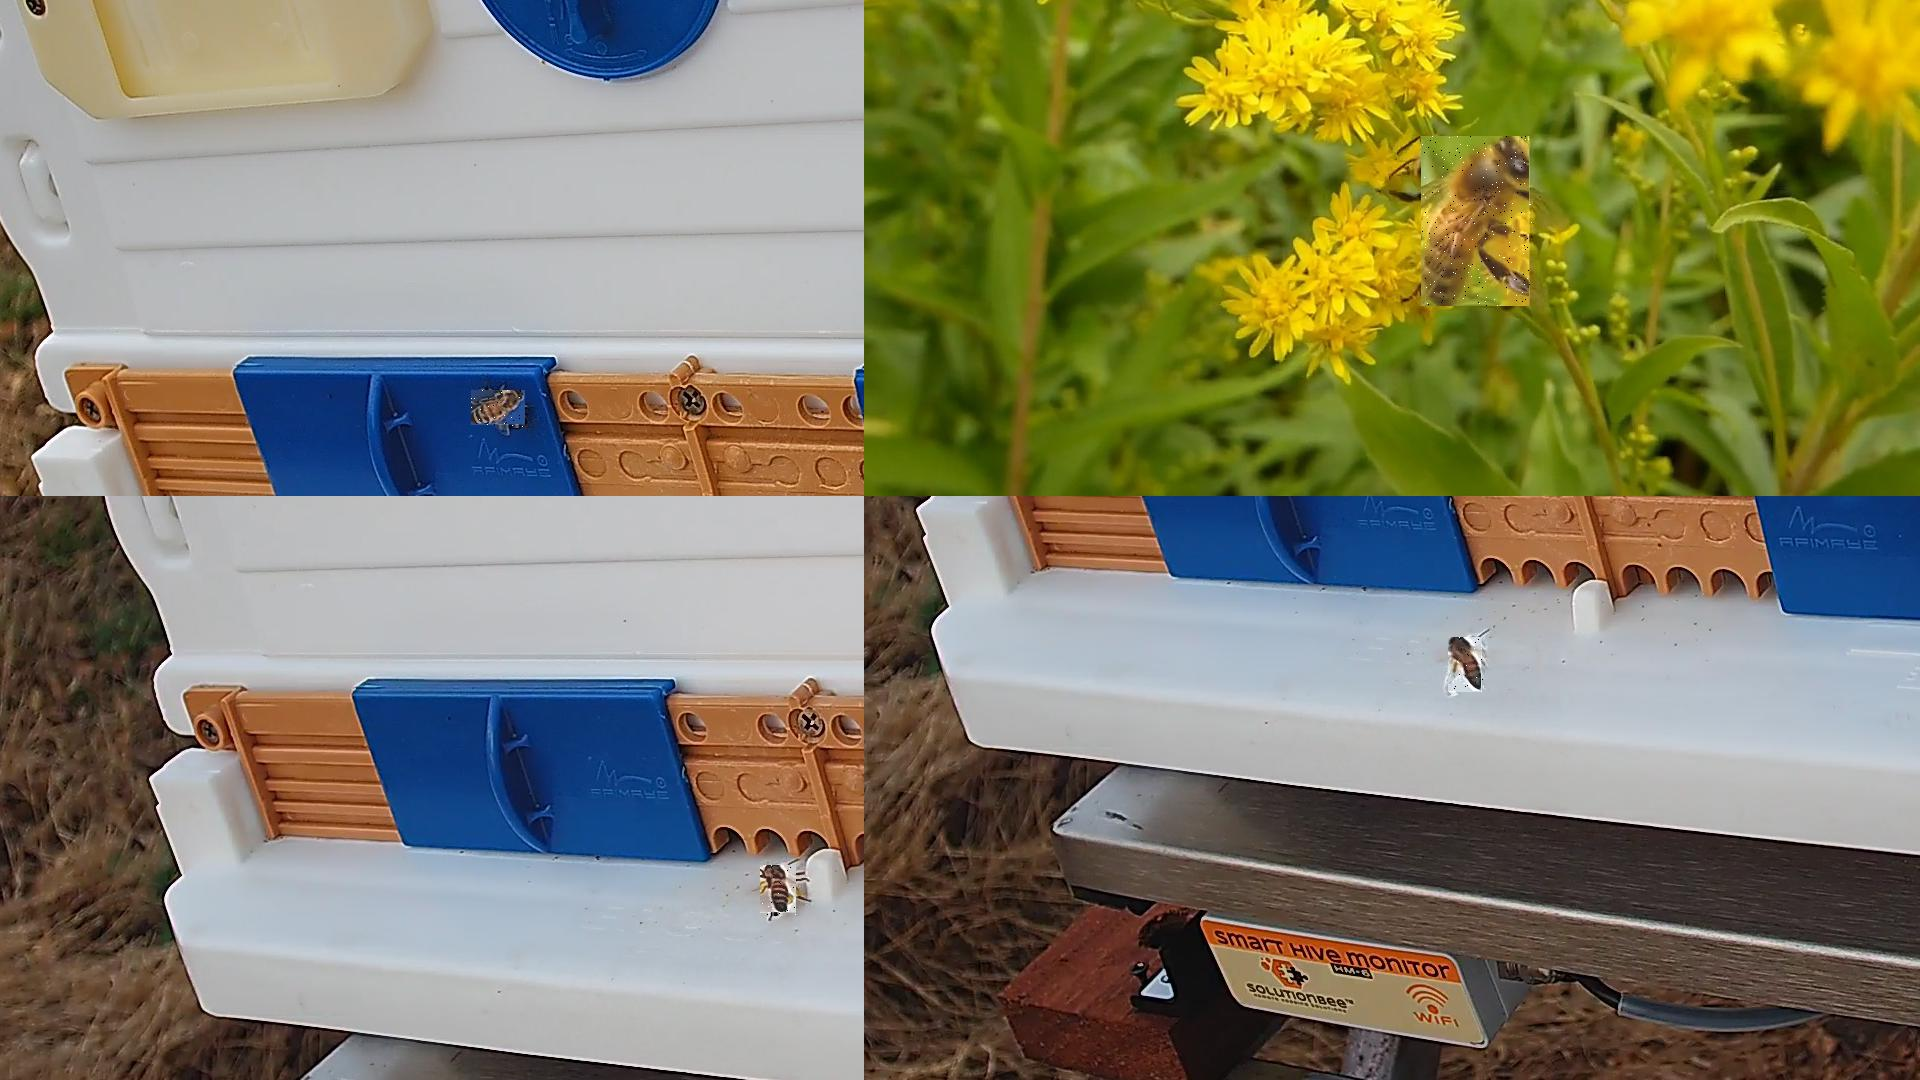bee: (1422, 136, 1534, 307), (471, 390, 526, 429)
pollenbee: (1449, 638, 1486, 696), (761, 866, 798, 916)
